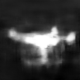plane: (6, 24, 78, 67)
